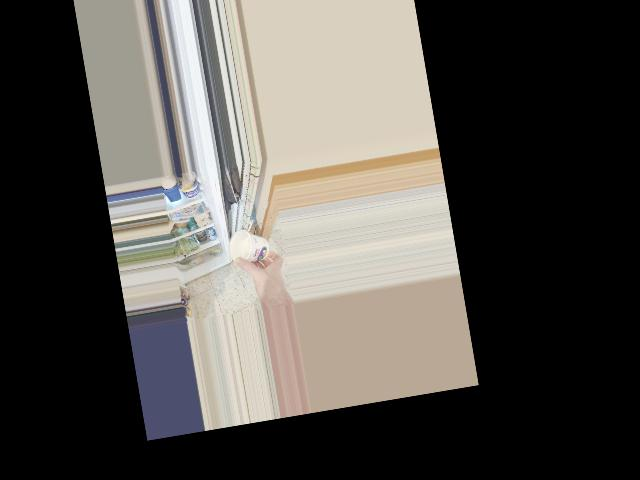cotage: (231, 224, 267, 264)
